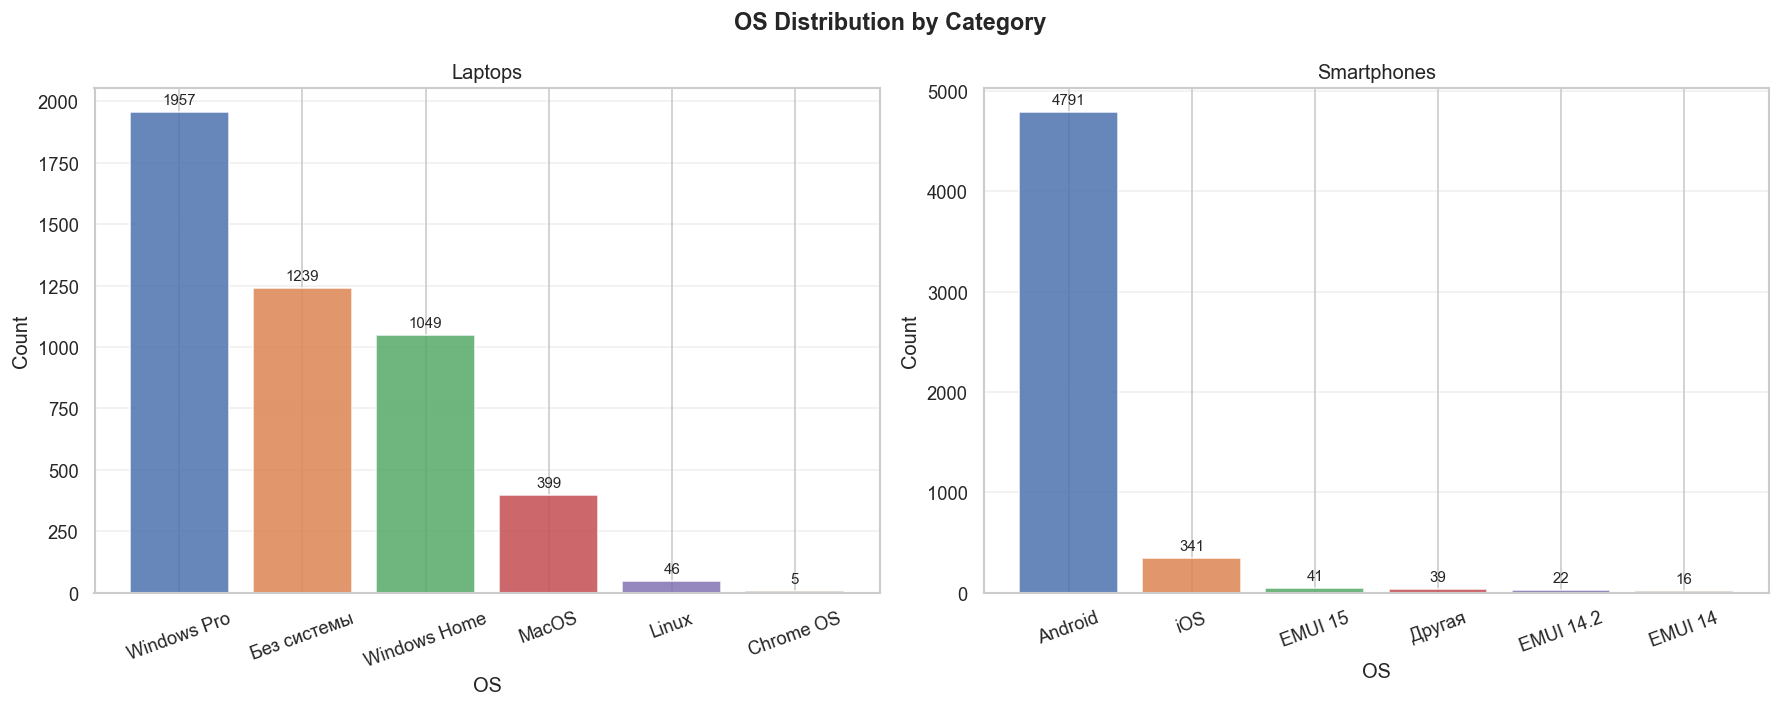

Layout of this report page (visuals, bound fields, positions):
{"tool":"powerbi","page":{"name":"Page 3","canvas":[1280,720],"ordinal":4},"visuals":[{"type":"clusteredColumnChart","fields":{"Category":["laptops_cleaned.os"],"Y":["CountNonNull(laptops_cleaned.os)"]},"box":[0,0,640.8,446],"z":0},{"type":"clusteredColumnChart","fields":{"Category":["smartphones_cleaned.os"],"Y":["CountNonNull(smartphones_cleaned.os)"]},"box":[640.8,0,639.5,446],"z":1000}]}

Visuals, with their boxes on the page's 1280x720 design canvas (x1, y1, x2, y2). These are canvas units, not pixel positions in the 1780x707 screenshot, which may show the page scaled, cropped or inside an application window:
clusteredColumnChart - laptops_cleaned.os x CountNonNull(laptops_cleaned.os): bbox(0, 0, 641, 446)
clusteredColumnChart - smartphones_cleaned.os x CountNonNull(smartphones_cleaned.os): bbox(641, 0, 1280, 446)
